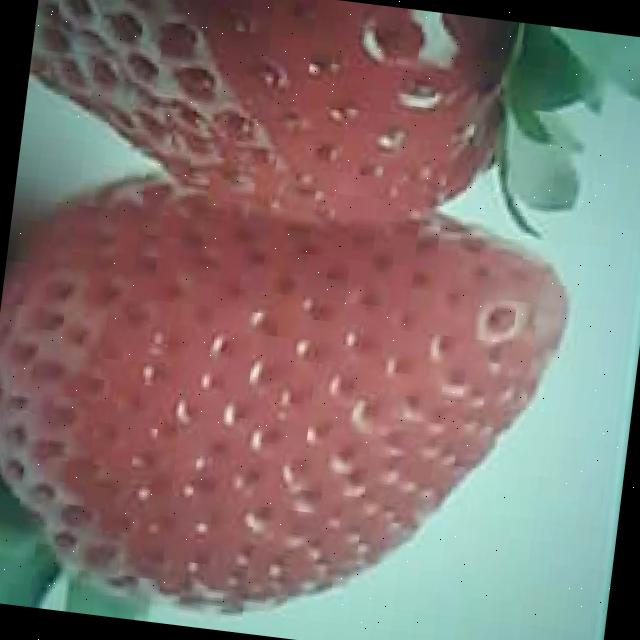strawberry: (0, 149, 579, 640), (15, 0, 532, 232)
